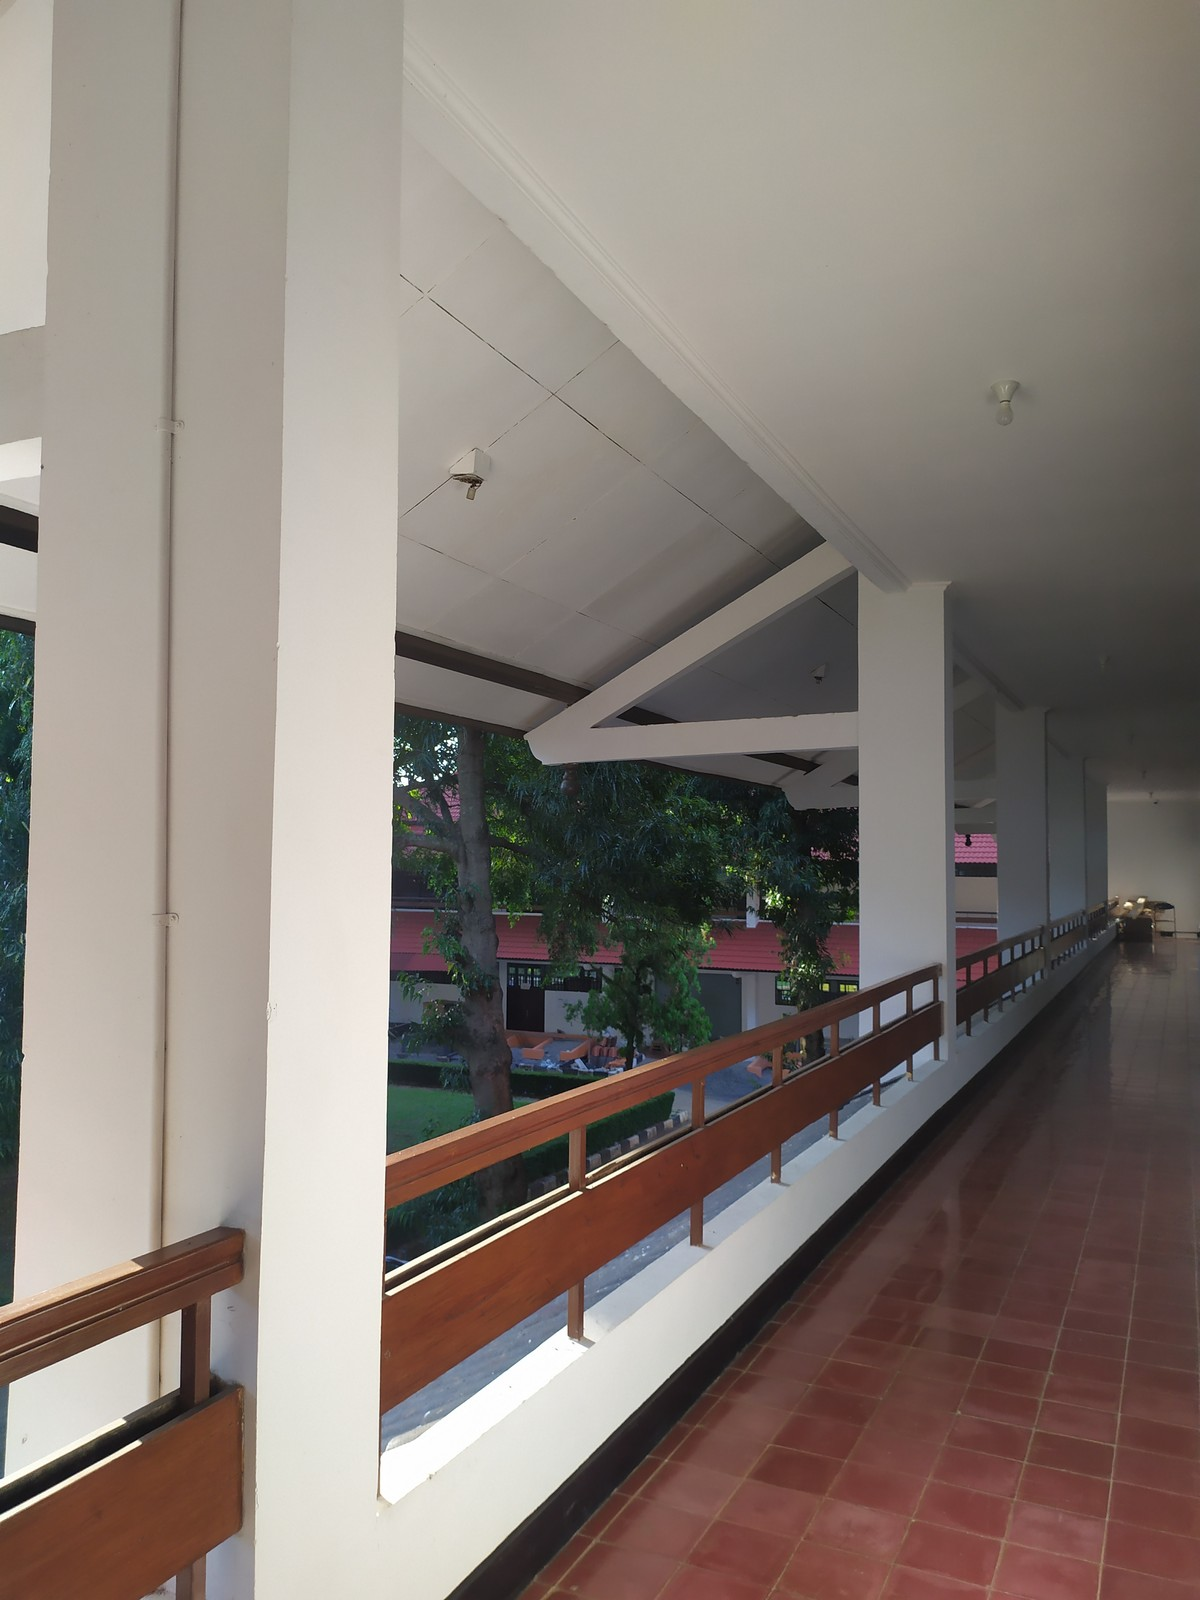concrete beam: (608, 703, 877, 762)
concrete column: (21, 16, 424, 1519), (853, 567, 966, 1070)
